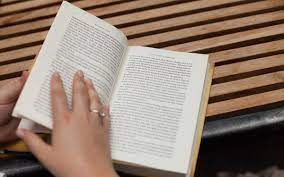Book: (33, 7, 215, 177)
